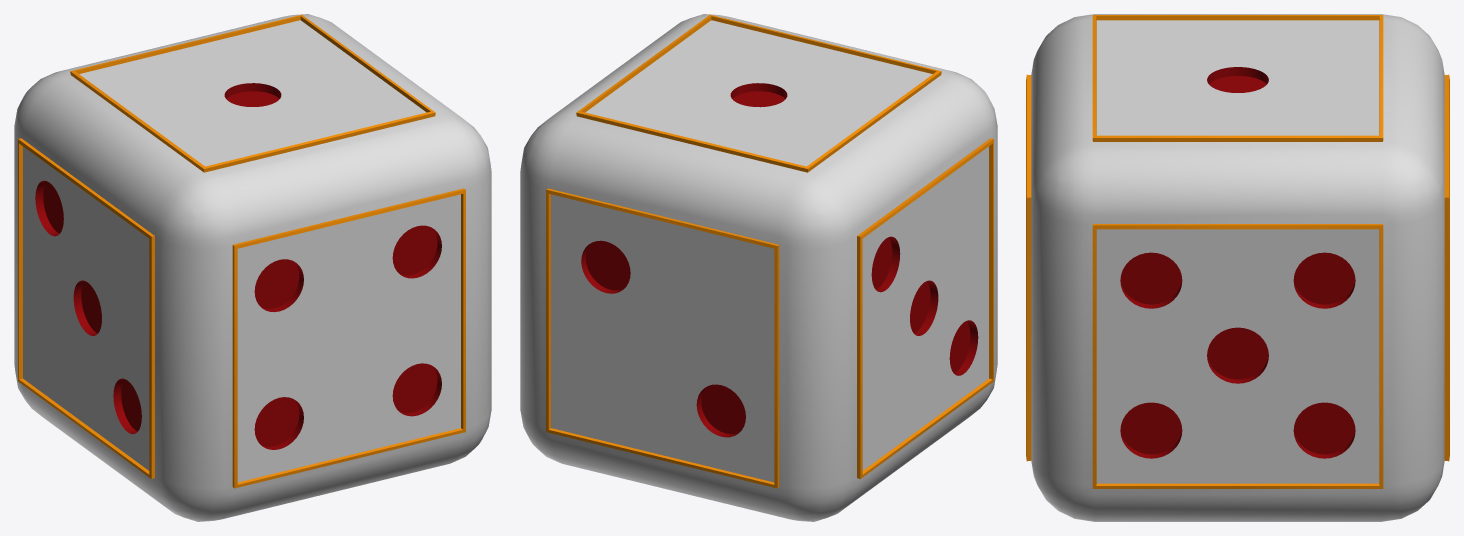
Rendered from dice.glb.
The picture shows the model from 3 angles, left to right: view 1: azimuth 30°, elevation 25°; view 2: azimuth 150°, elevation 25°; view 3: azimuth 270°, elevation 25°; orthographic projection. The views are drawn at different scales.
Visible parts, largest first — view 1: Cube.005; view 2: Cube.005; view 3: Cube.005.
Boxes of the visible parts, bbox=[...] form: Cube.005: bbox=[14, 14, 491, 521]; Cube.005: bbox=[520, 14, 997, 521]; Cube.005: bbox=[1026, 14, 1449, 521].
Size of the model in its own units: 0.7847 by 0.7847 by 0.7847.
